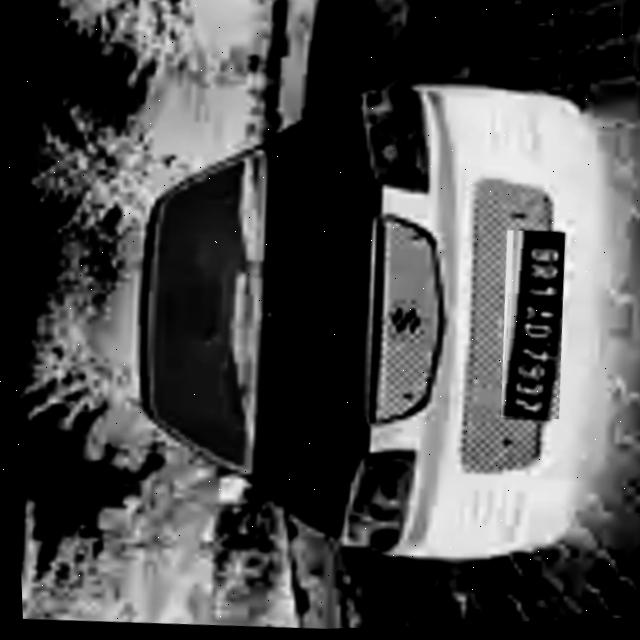Non_registered: (492, 231, 569, 424)
